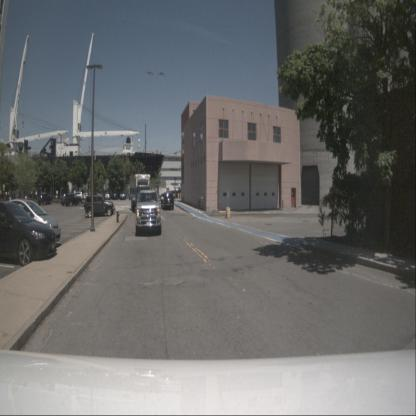vehicle-car: (0, 202, 57, 266), (0, 198, 62, 249), (84, 195, 114, 217), (65, 193, 82, 207), (161, 192, 174, 210), (38, 193, 51, 206), (72, 191, 83, 201), (119, 191, 126, 200), (112, 190, 118, 200), (83, 192, 90, 200), (105, 192, 111, 200)
vehicle-truck: (136, 191, 160, 235), (129, 174, 152, 212)
